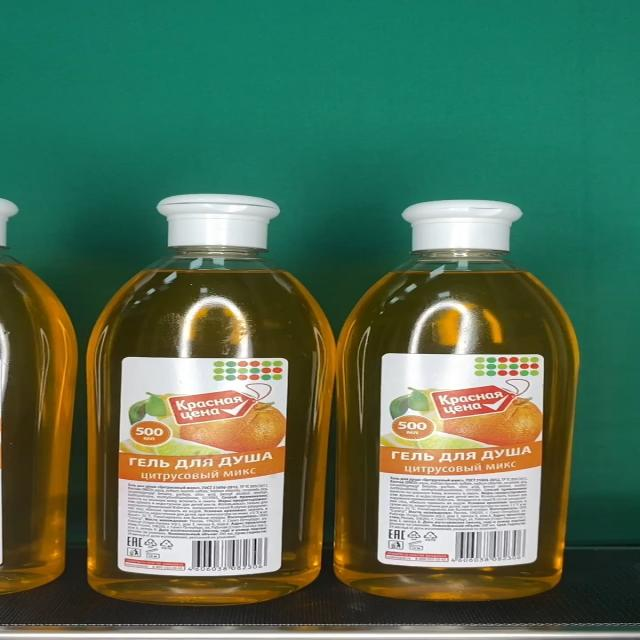Bottle: (84, 192, 339, 607), (334, 200, 580, 601)
Cap: (404, 201, 529, 254), (158, 194, 282, 246)
